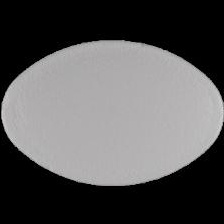43547-254: (0, 0, 224, 224)
